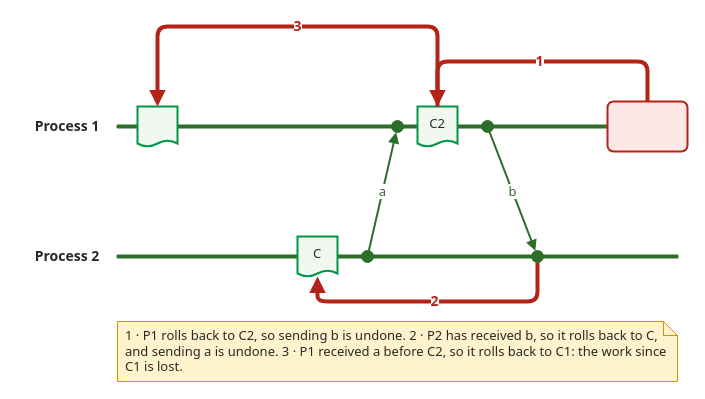
Some shapes in this 705 by 399 pixel diagram are drawn without their labels. The box of each missing label's shape, as (x1, y1, x2, y2) in pixels:
C1: (136, 105, 178, 147)
error detected: (606, 100, 688, 152)
